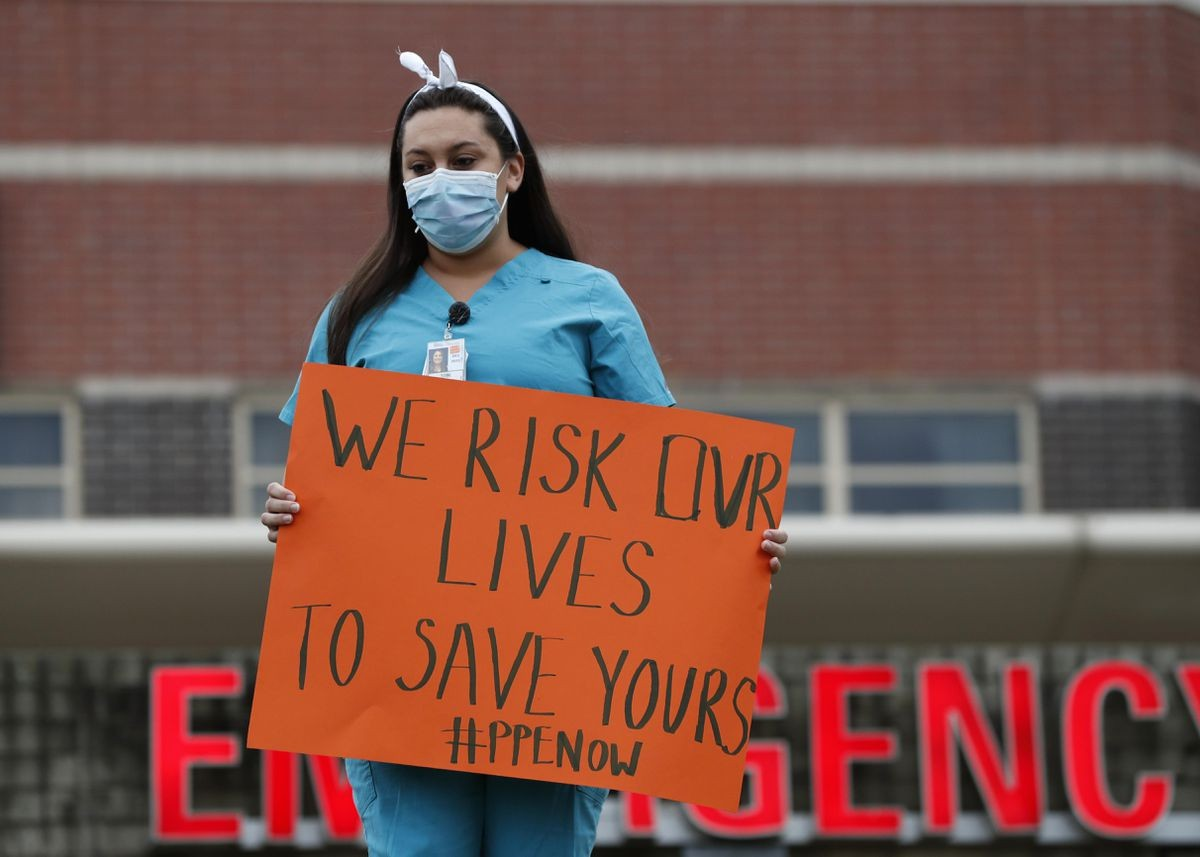with_mask: (400, 143, 503, 258)
